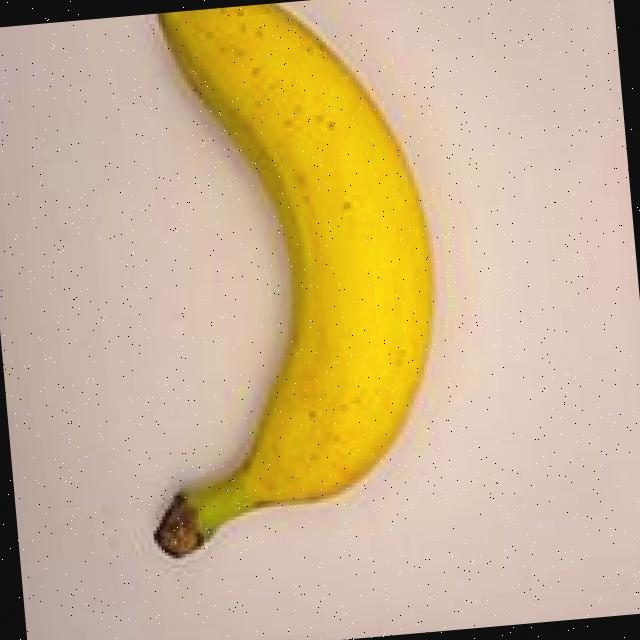Ripe: (65, 0, 484, 566)
